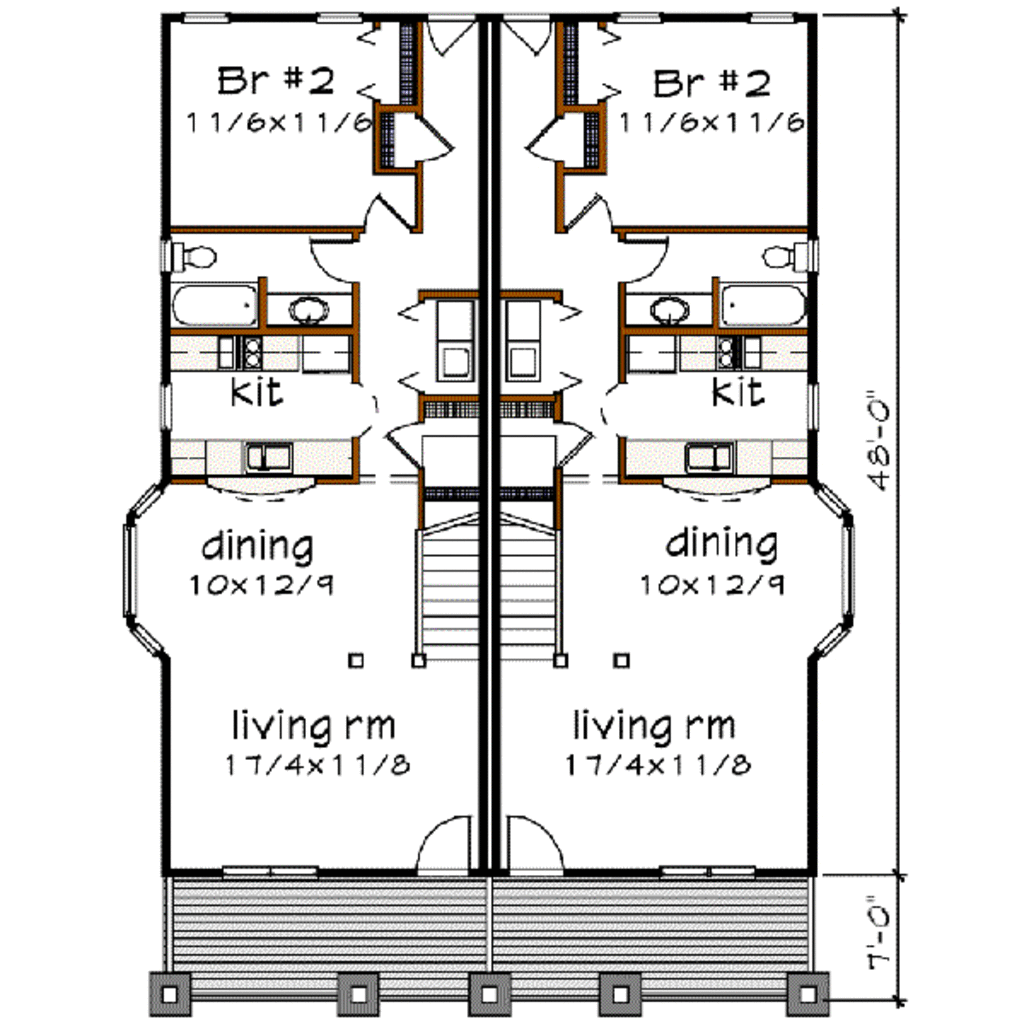door: (491, 812, 571, 887), (418, 801, 471, 878), (302, 233, 366, 293), (399, 112, 458, 168), (382, 405, 427, 473), (613, 239, 672, 289), (498, 14, 556, 60), (352, 192, 415, 233), (420, 14, 475, 54), (564, 187, 609, 232), (526, 117, 574, 157), (556, 420, 594, 466)
large_sink: (156, 232, 228, 276), (745, 235, 804, 276)
small_sink: (625, 290, 713, 332), (278, 290, 352, 328)
tub: (705, 274, 817, 338), (163, 274, 263, 325)
twin_sink: (229, 433, 304, 478), (678, 433, 748, 479)
window: (809, 473, 858, 660), (125, 481, 163, 655), (217, 853, 320, 884), (648, 857, 756, 884), (609, 6, 683, 35), (172, 3, 232, 35), (148, 378, 177, 432), (309, 3, 369, 28), (749, 9, 798, 22)
